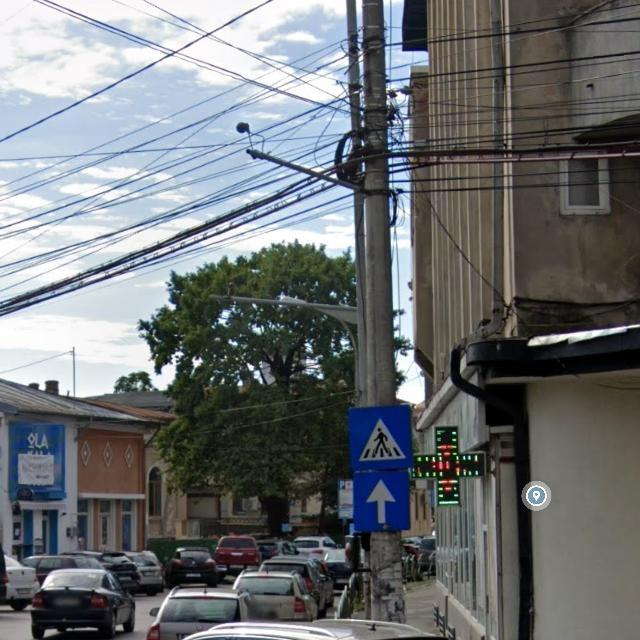info_crosswalk: (346, 406, 413, 471)
